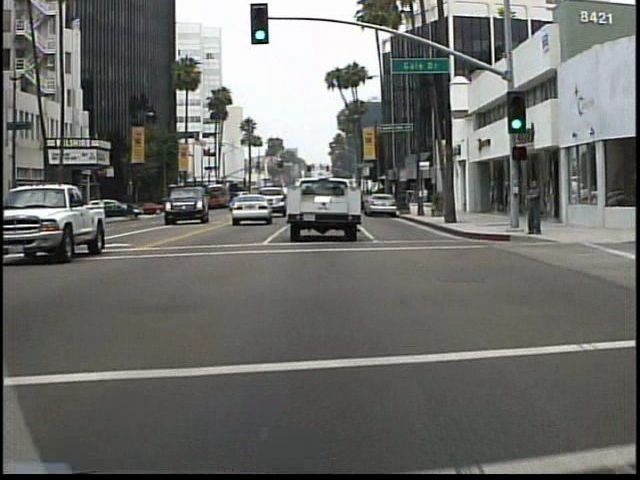person: (520, 173, 543, 241)
